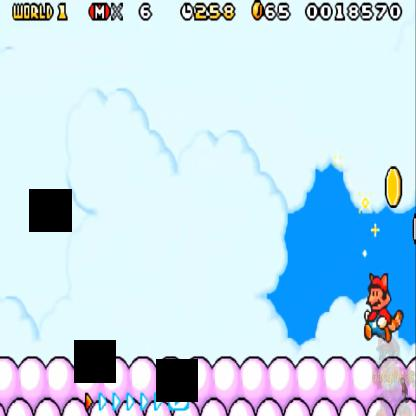Mario: (362, 273, 405, 343)
moneda: (385, 169, 403, 206), (252, 0, 264, 26)
